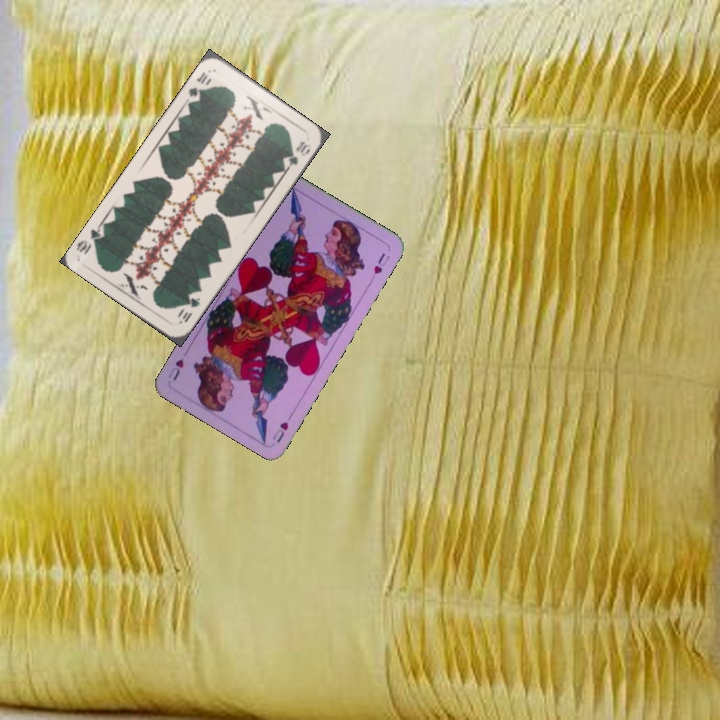G10: (175, 293, 203, 327), (184, 68, 211, 101)
HU: (268, 409, 296, 445)
